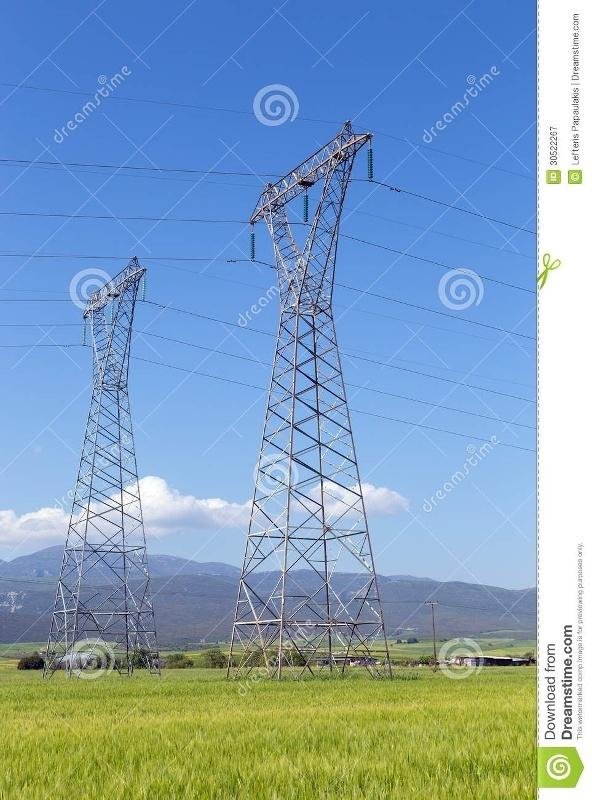power_tower: (228, 139, 385, 659), (42, 259, 170, 651)
